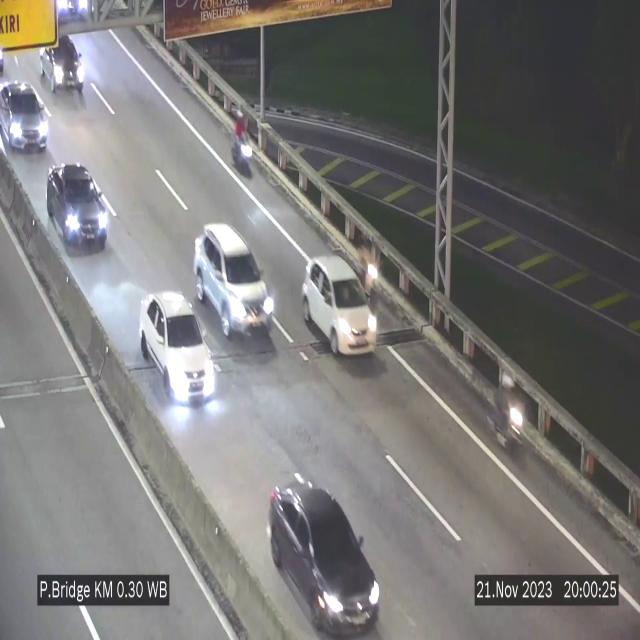Car: (270, 484, 378, 634), (193, 224, 274, 337), (140, 292, 212, 402), (302, 256, 379, 356), (46, 163, 108, 249), (36, 22, 94, 94), (0, 81, 48, 149)
Motorcycle: (486, 369, 528, 473), (359, 235, 381, 306), (232, 112, 252, 177)
